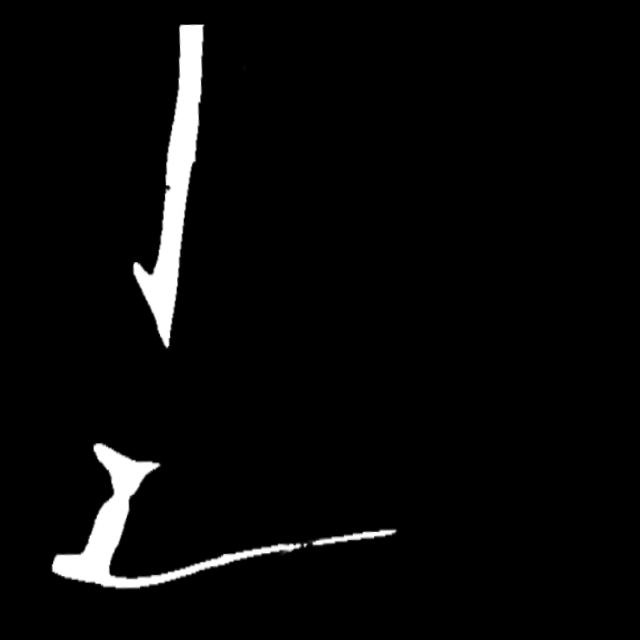inf: (299, 527, 328, 553)
